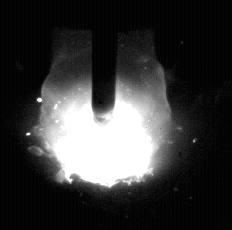arame: (92, 0, 117, 115)
poca: (39, 0, 172, 230)
